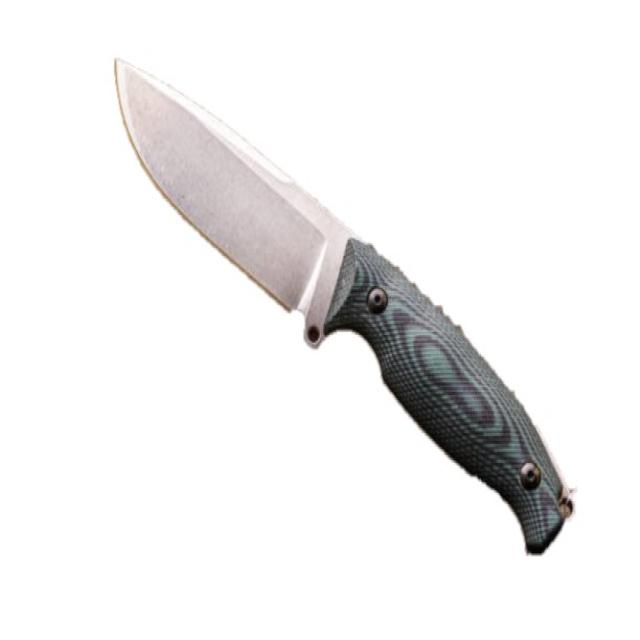knife: (110, 51, 584, 572)
